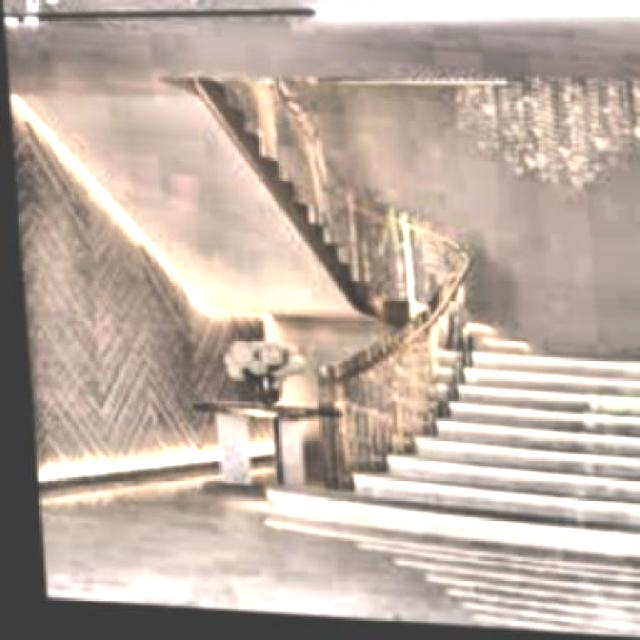stair: (243, 337, 640, 571)
